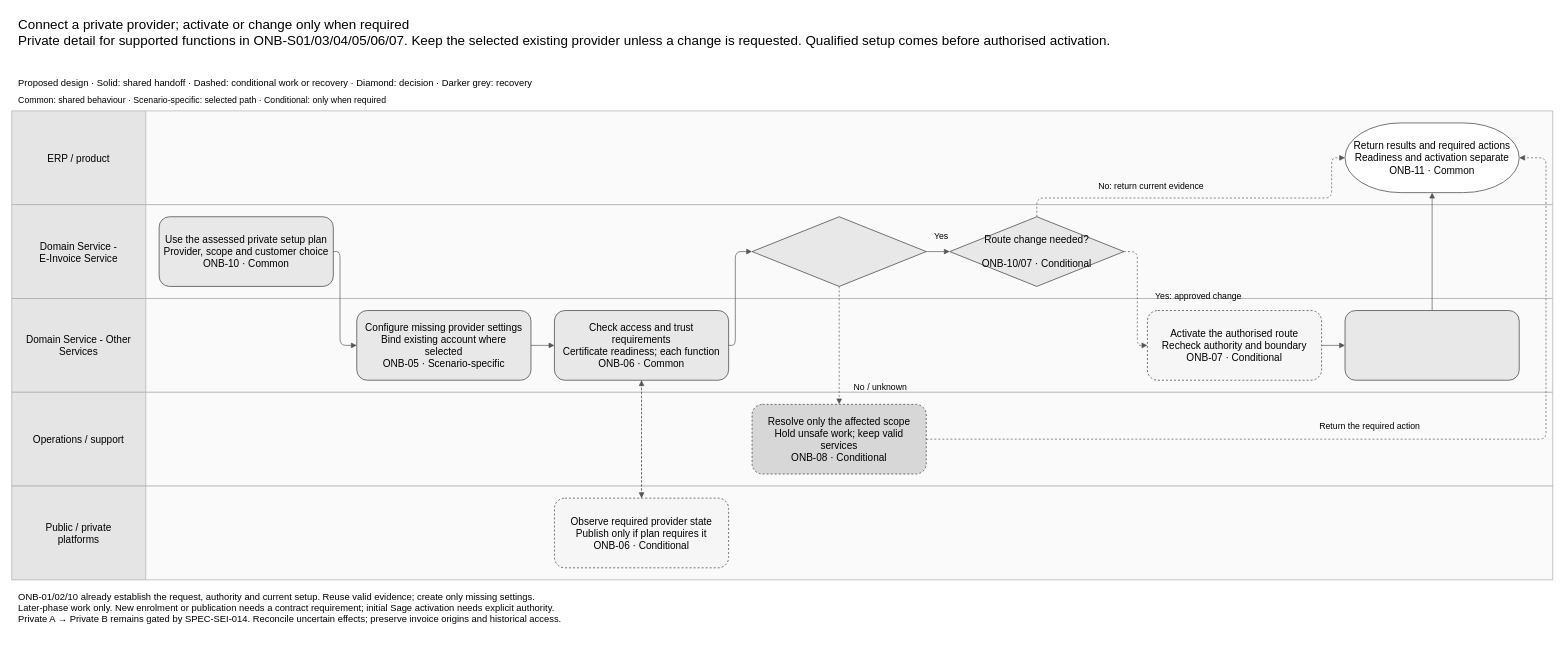
This 1564x662 diagram has some shape labels left out. The centre of each missing label's shape, as x and y in pixels:
"Keep earlier invoice context Release only at separate gates ONB-09 · Conditional" belongs at point 1431,345.
"Required checks passed? ONB-06 · Common" belongs at point 838,251.
